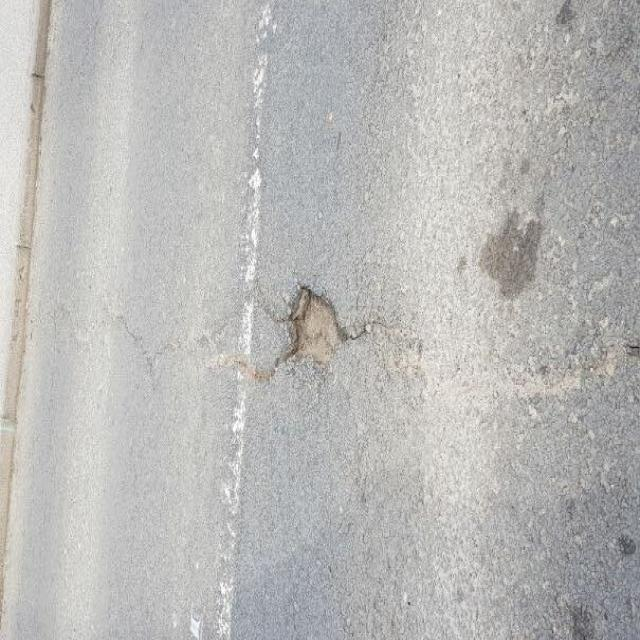pothole: (268, 279, 366, 371)
